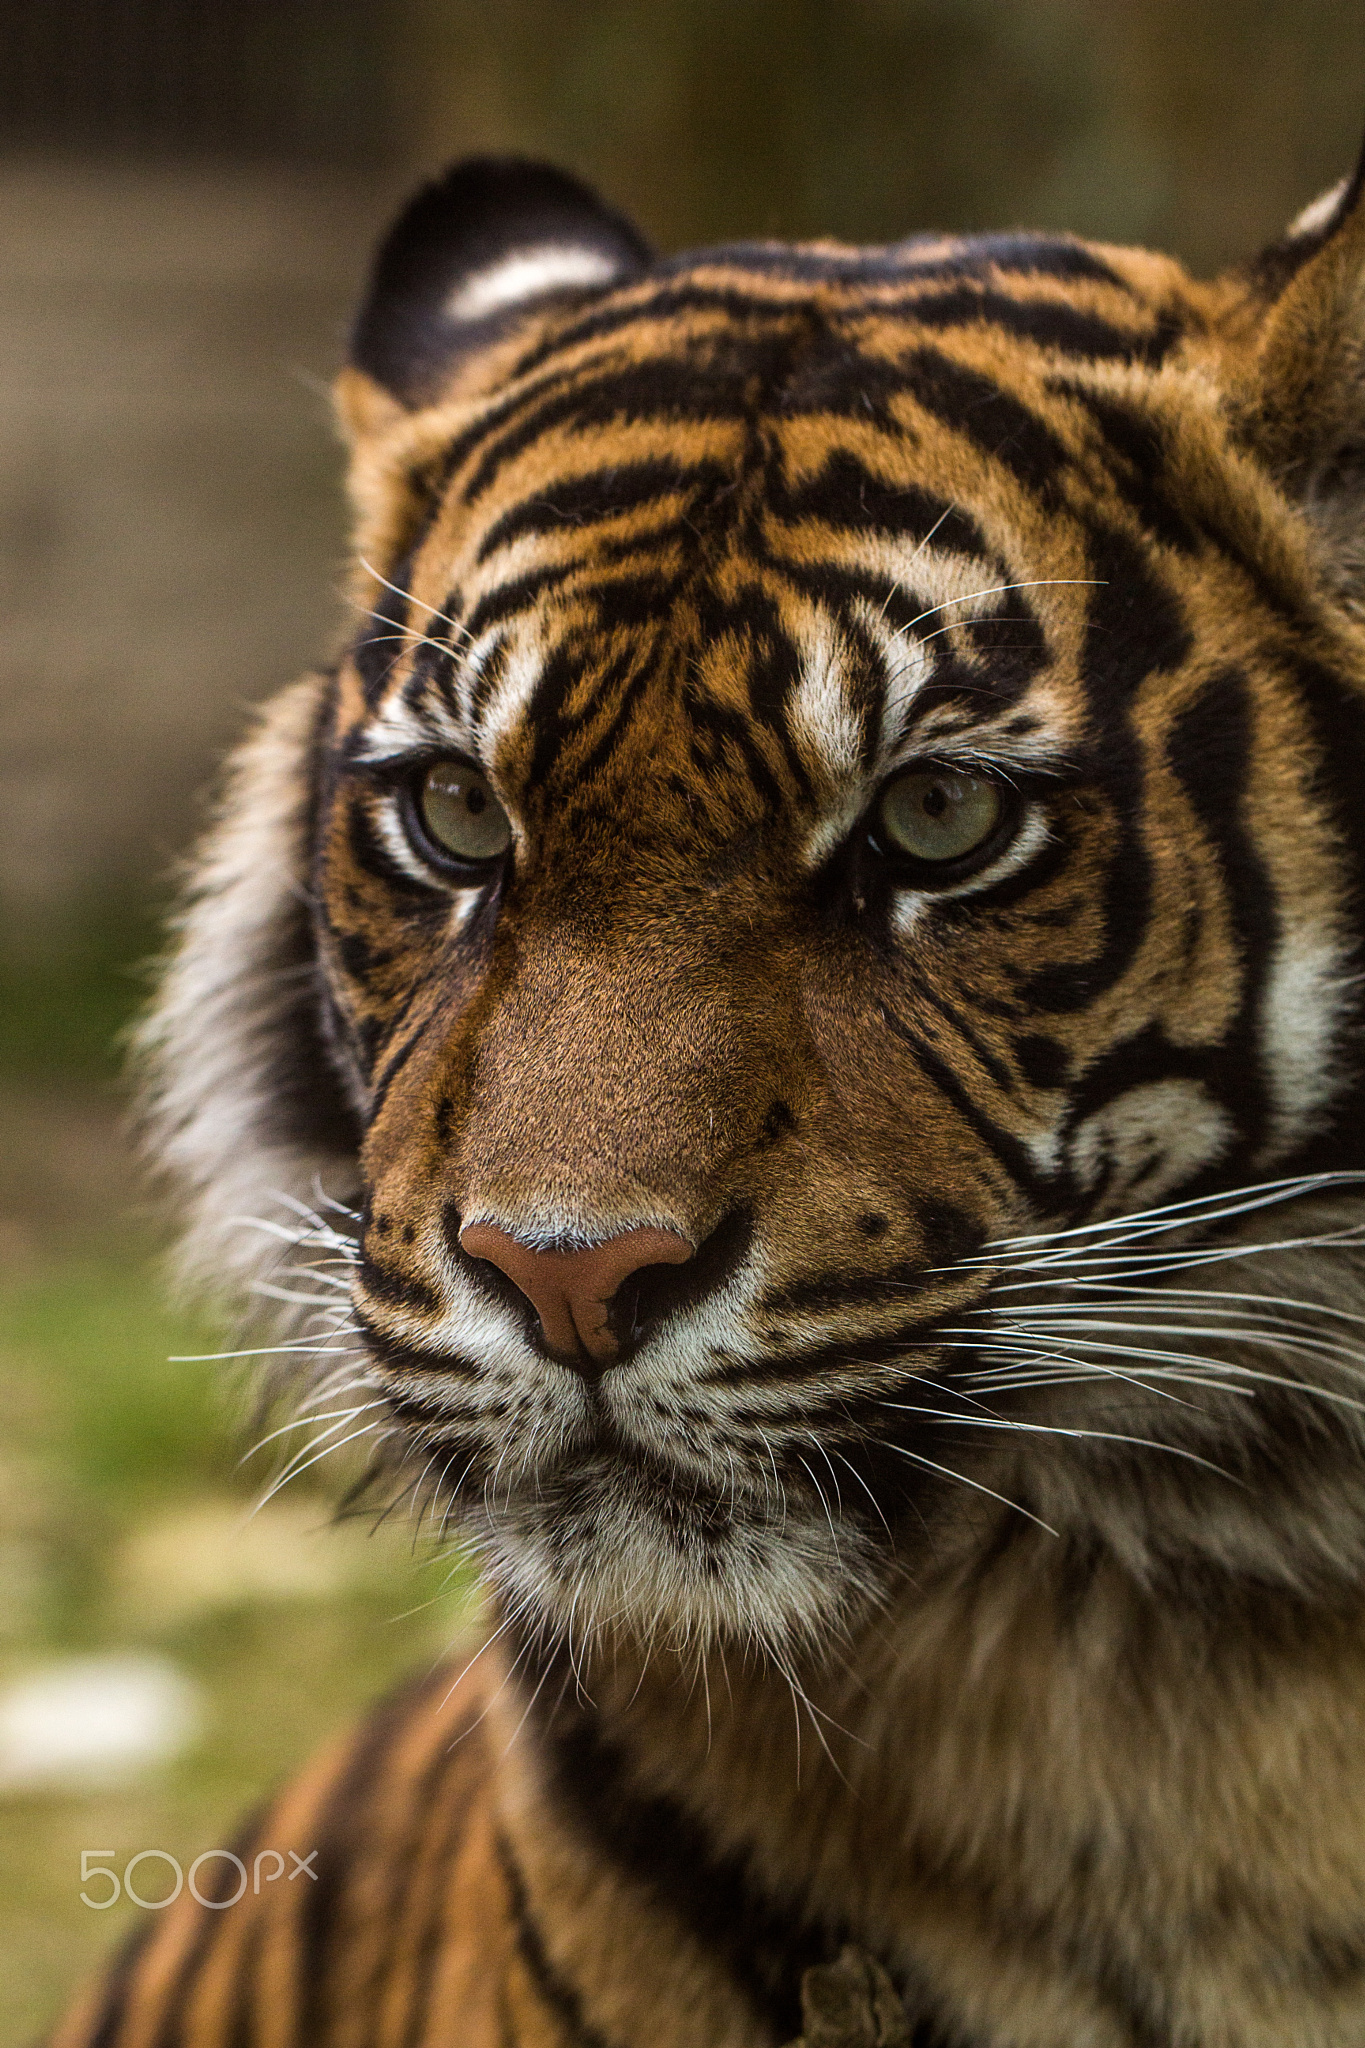tiger: (178, 134, 1365, 1914)
